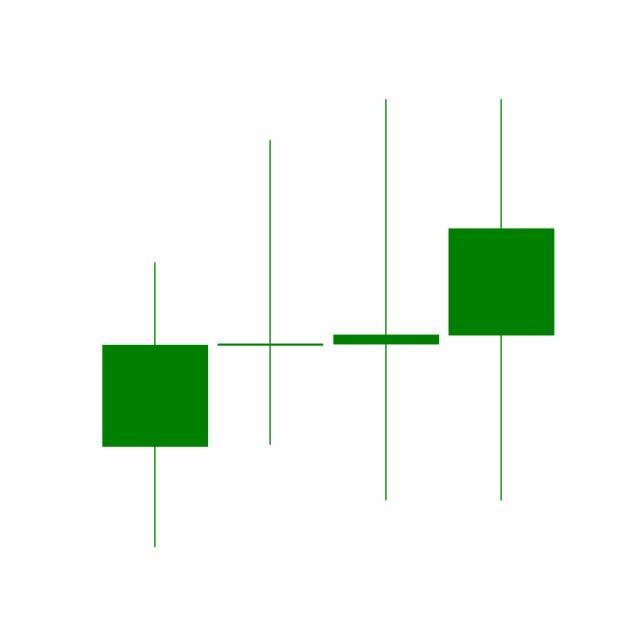Spinning Top: (329, 95, 445, 505)
